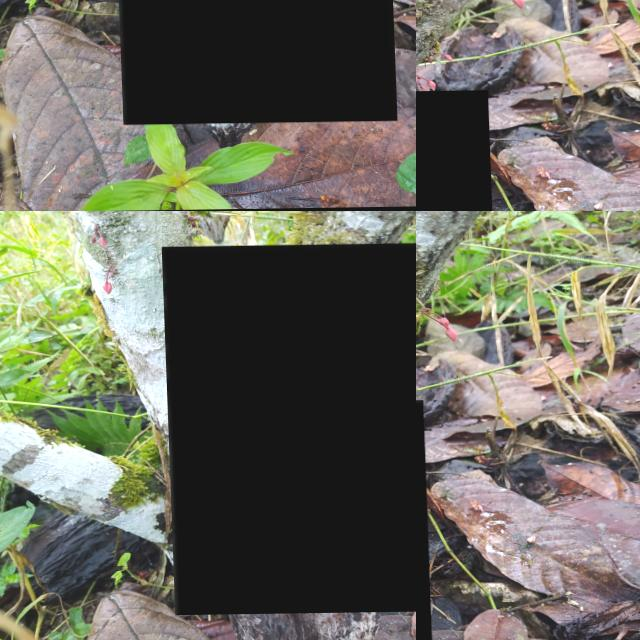Fitoftora: (161, 244, 416, 615), (107, 0, 393, 125), (416, 91, 492, 211)
